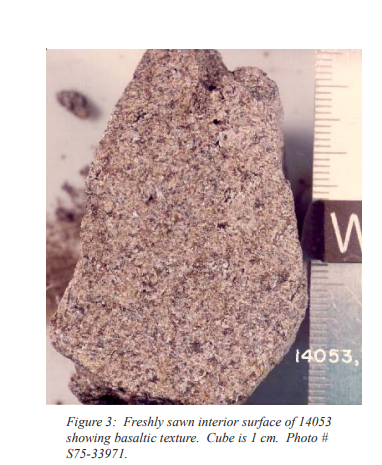Basalt: (46, 48, 306, 404)
